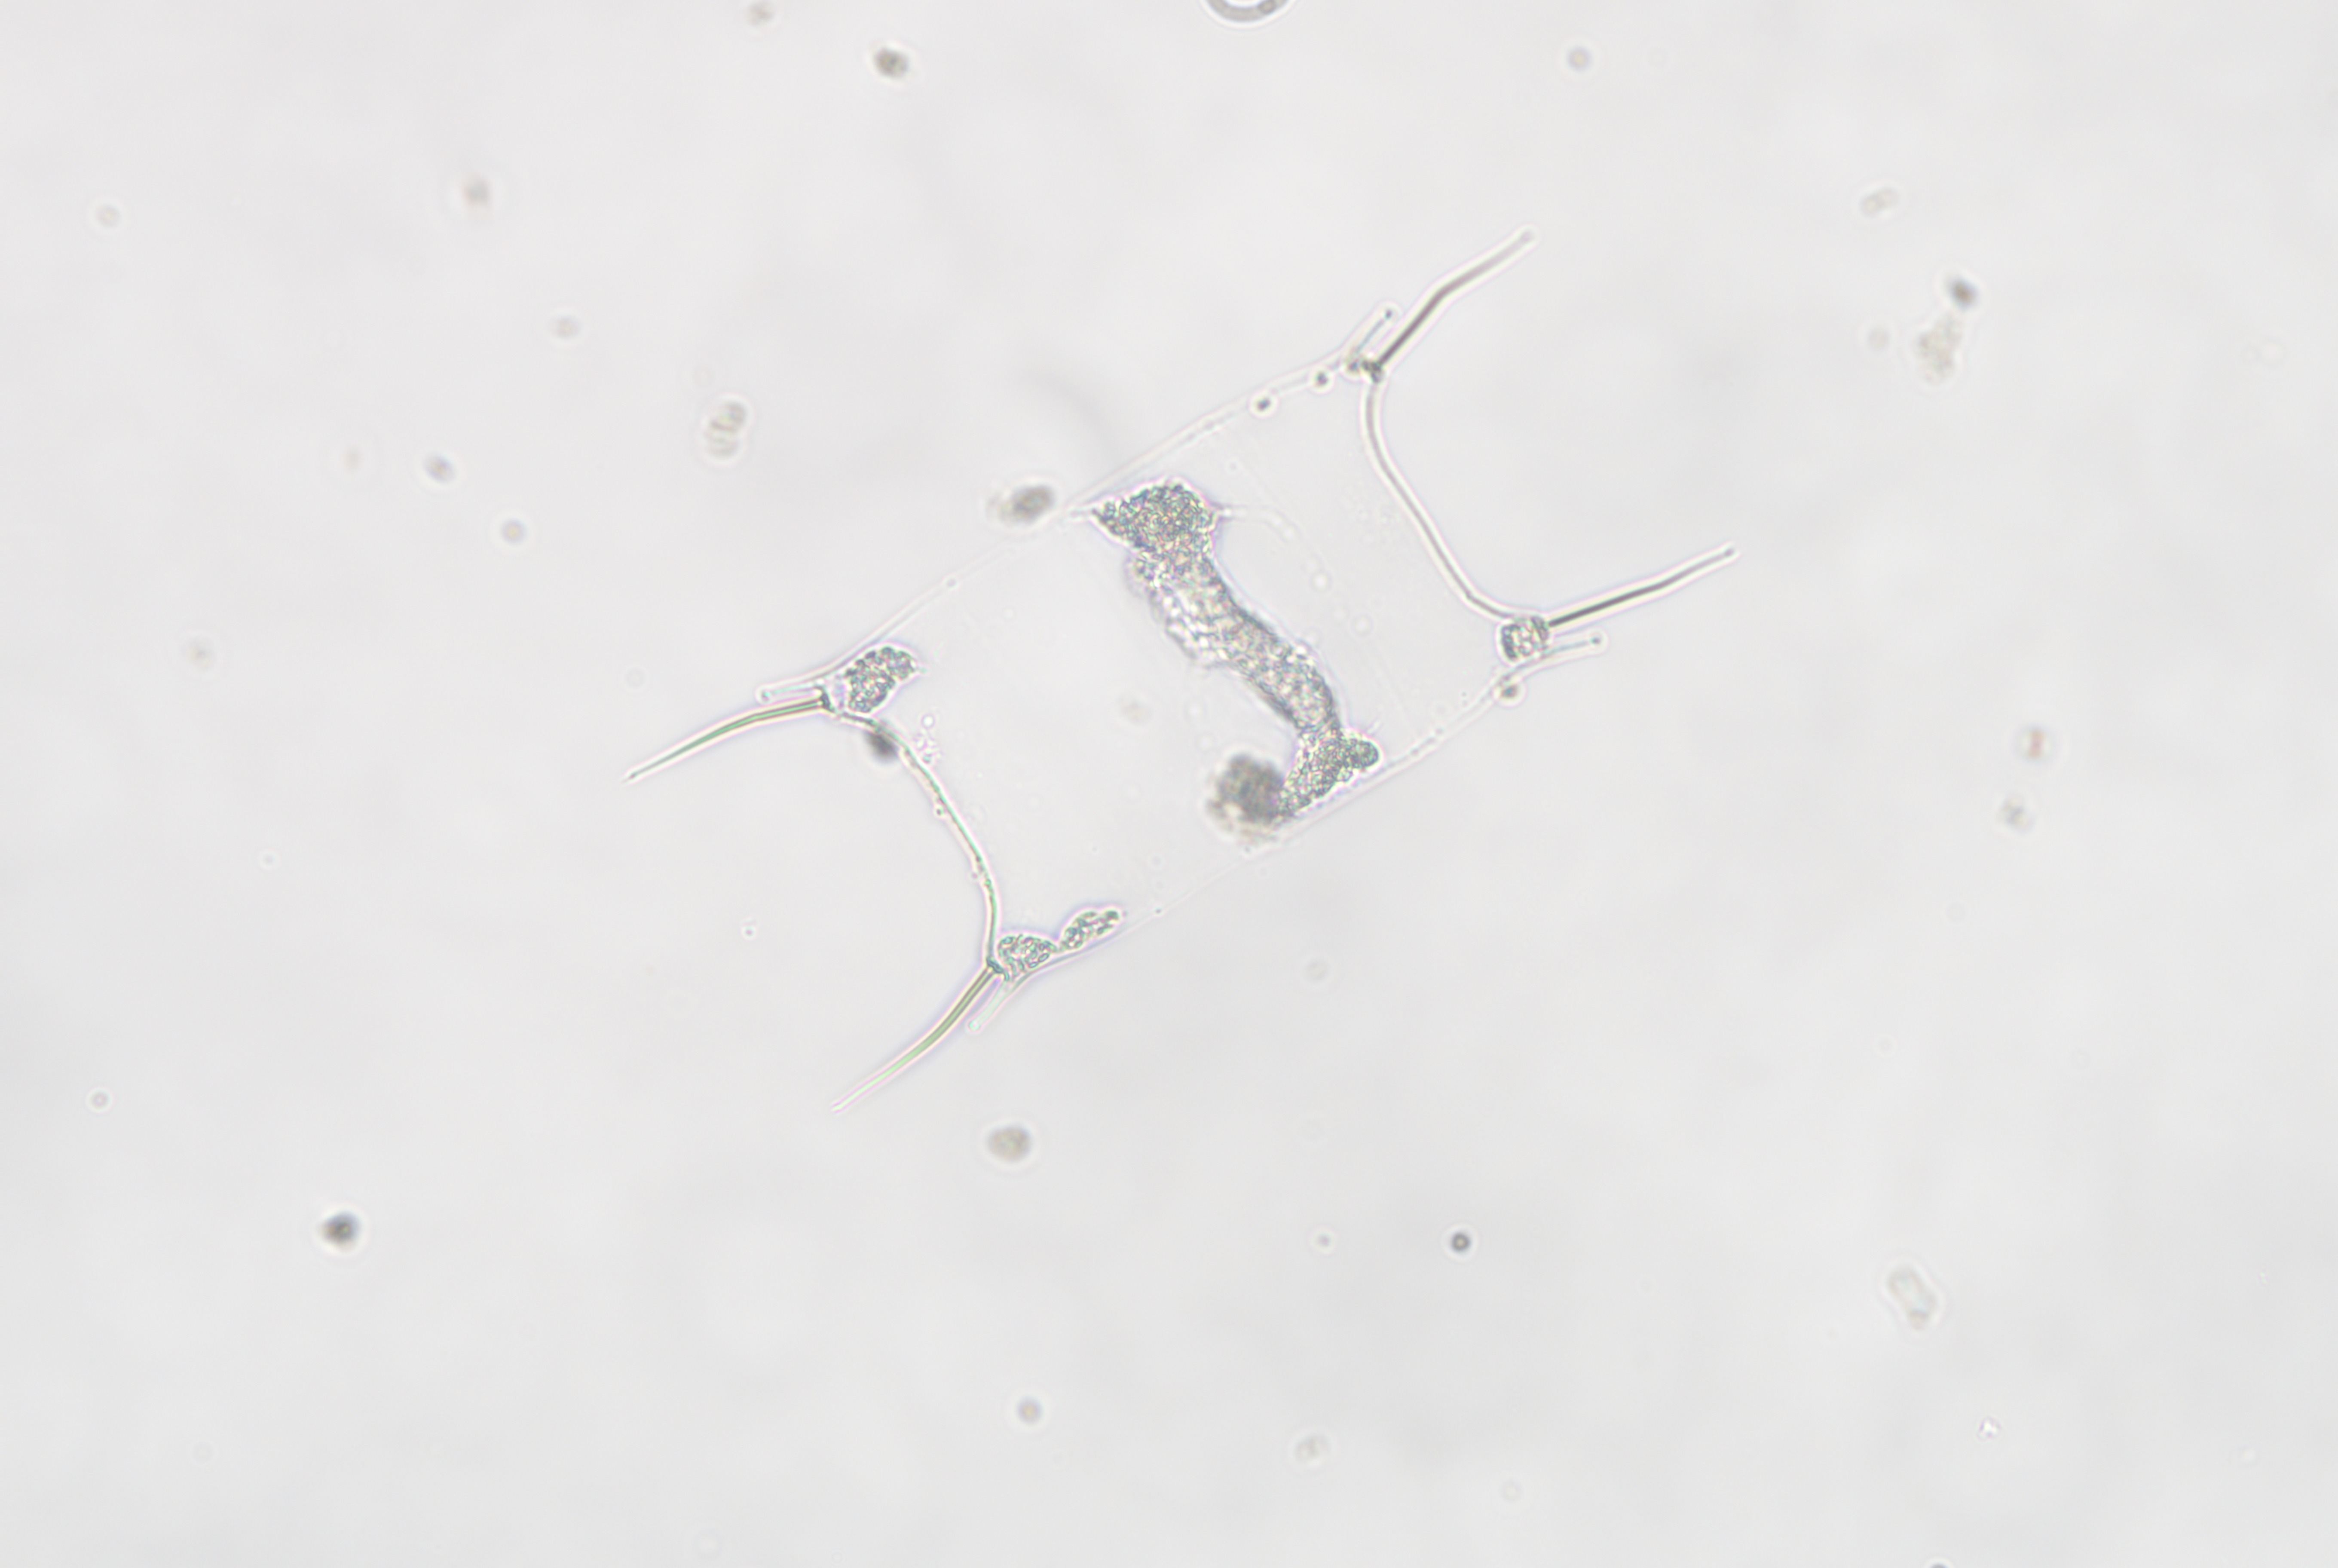biddulphia: (628, 226, 1736, 1104)
